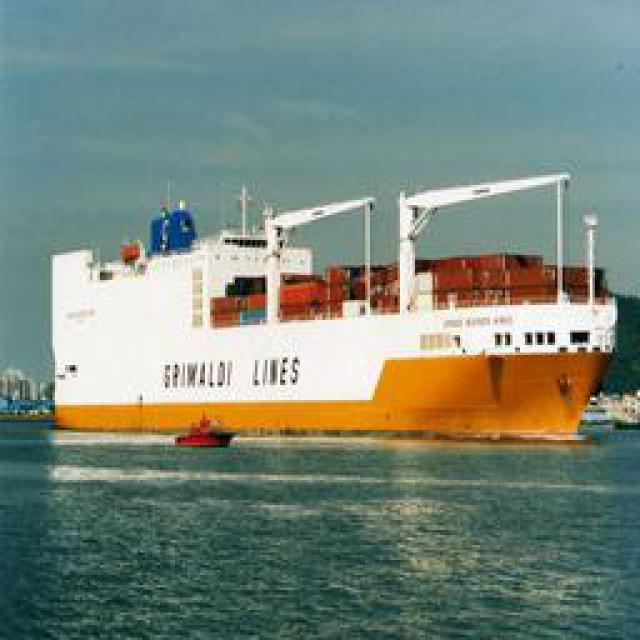Ship: (38, 169, 613, 442)
